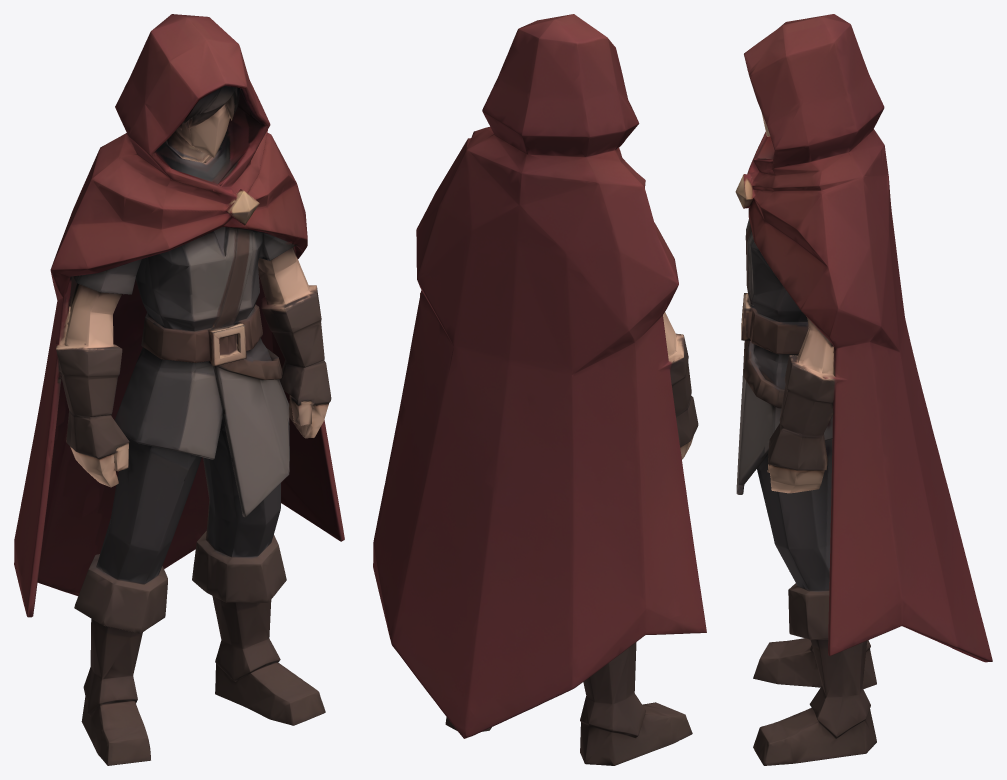
The model's file is hero-original.glb.
3 renders of one model, left to right at view 1: azimuth 30°, elevation 25°; view 2: azimuth 150°, elevation 25°; view 3: azimuth 270°, elevation 25°, orthographic.
Visible parts, largest first — view 1: node_0; view 2: node_0; view 3: node_0.
Boxes of the visible parts, x1,y1,x2,y2 form: node_0: (14, 14, 344, 765); node_0: (373, 14, 706, 765); node_0: (735, 14, 992, 765).
Bounding box in the file's own units: 0.5248 × 1.11 × 0.3704.
1 material, 1 textured.
